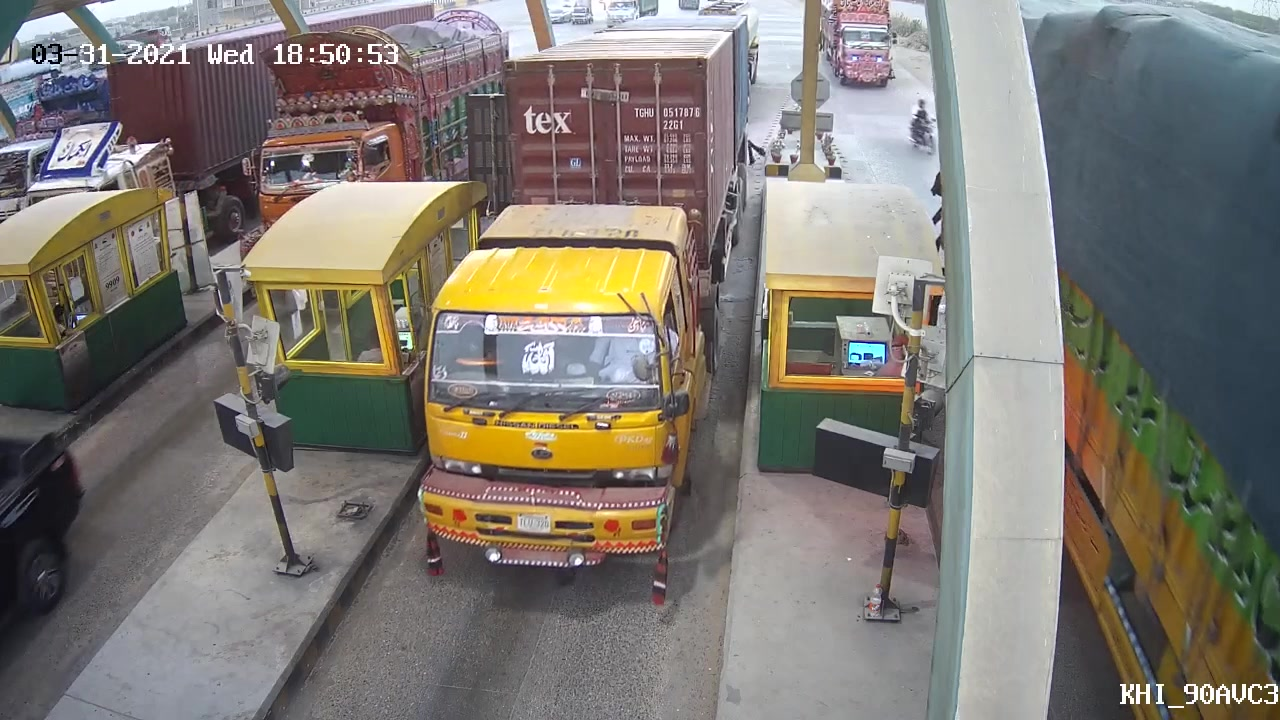F6: (395, 10, 756, 591)
